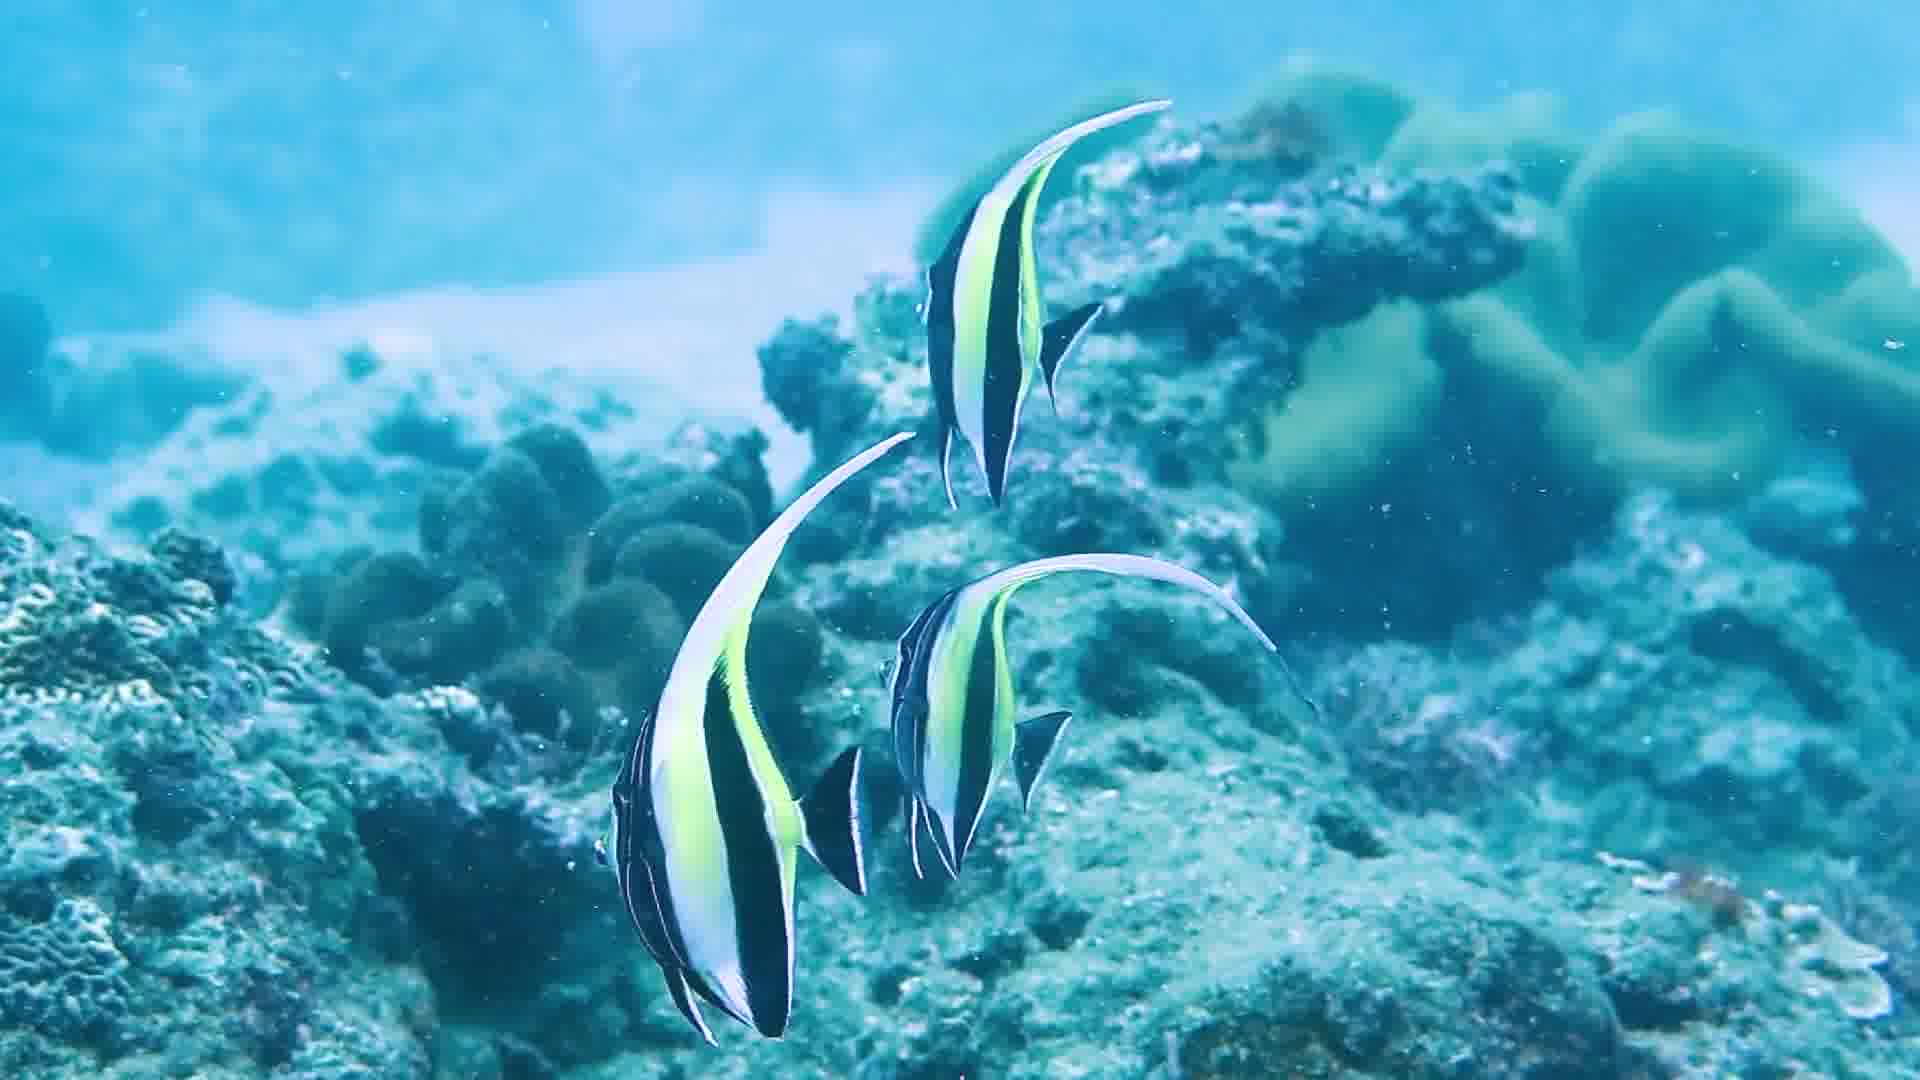Zanclus cornutus: (597, 564, 884, 1033), (864, 533, 1129, 907), (872, 149, 1135, 524)
